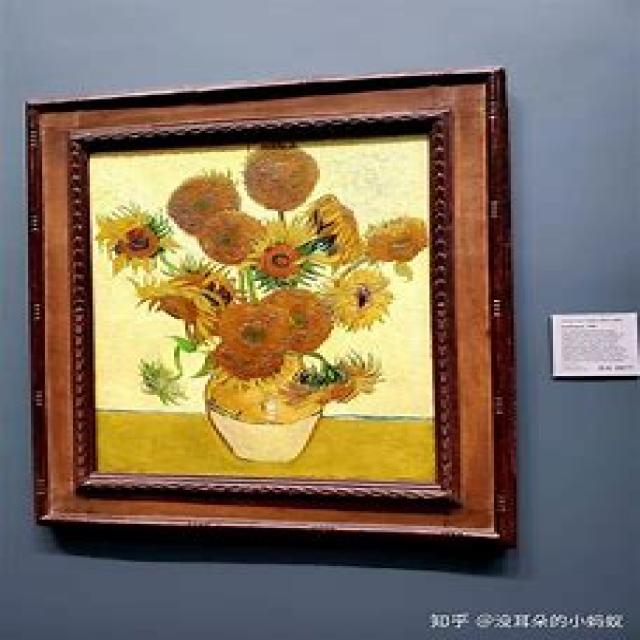sunflower: (67, 121, 446, 507)
